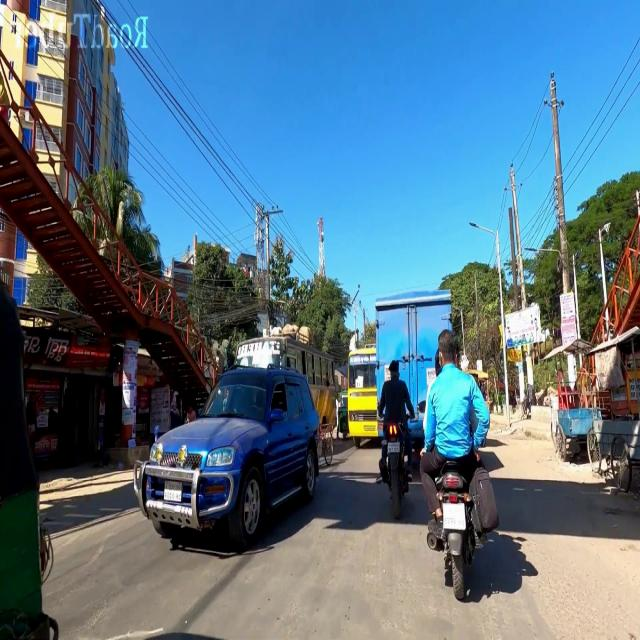blue: (128, 366, 323, 544)
